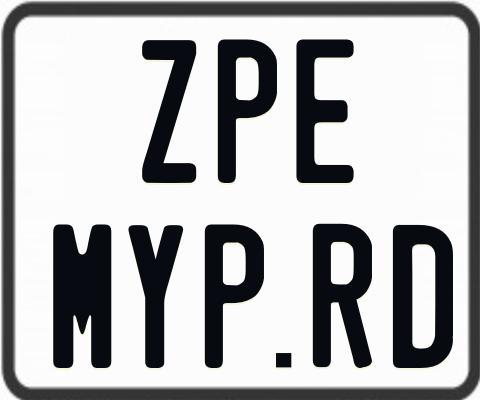D: (391, 222, 451, 371)
E: (293, 40, 355, 188)
M: (51, 224, 111, 372)
P: (202, 225, 265, 372), (216, 39, 275, 187)
R: (310, 221, 370, 368)
Y: (128, 225, 182, 369)
Z: (142, 38, 200, 186)
